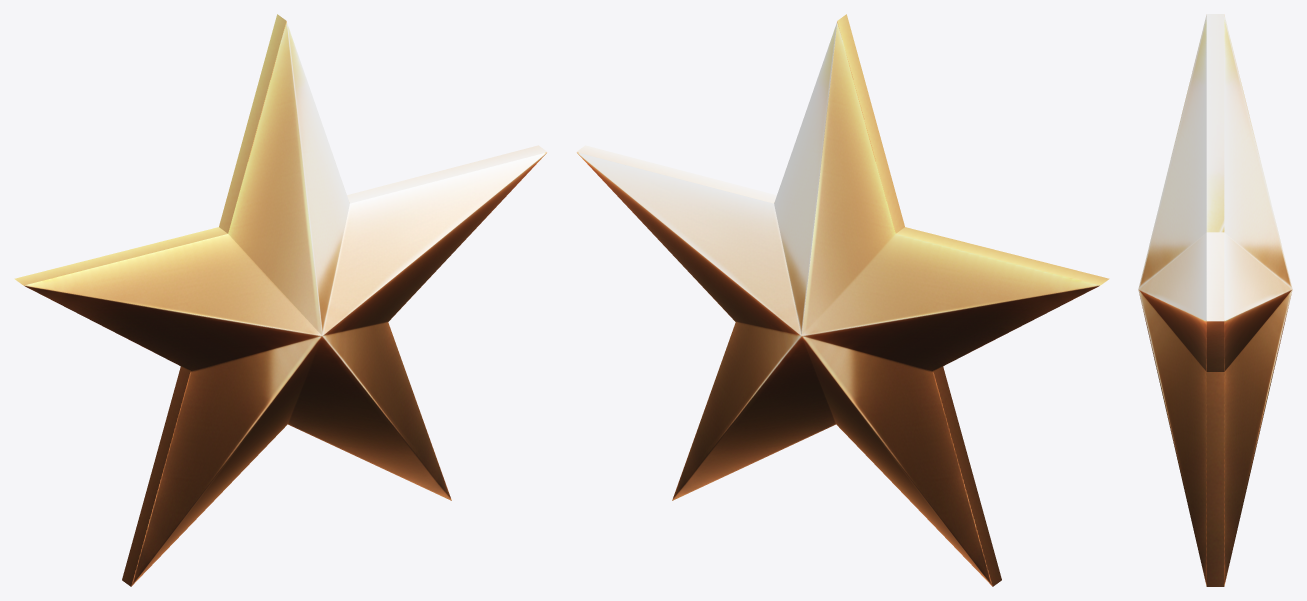
File: Star_Bronze.glb
The picture shows the model from 3 angles, left to right: view 1: azimuth 30°, elevation 25°; view 2: azimuth 150°, elevation 25°; view 3: azimuth 270°, elevation 25°; orthographic projection. The views are drawn at different scales.
Visible parts, largest first — view 1: Star; view 2: Star; view 3: Star.
Boxes of the visible parts, x1,y1,x2,y2 form: Star: (14,14,547,586); Star: (576,14,1109,586); Star: (1138,14,1292,586).
Size of the model in its own units: 64.2 by 61.81 by 17.18.
Materials: 1 (1 with a texture image).
